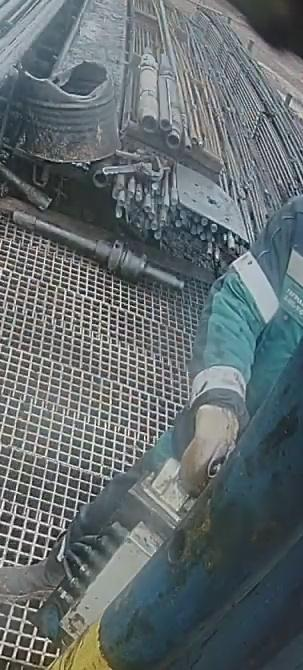gloves: (174, 380, 245, 494)
vest: (196, 183, 303, 412)
